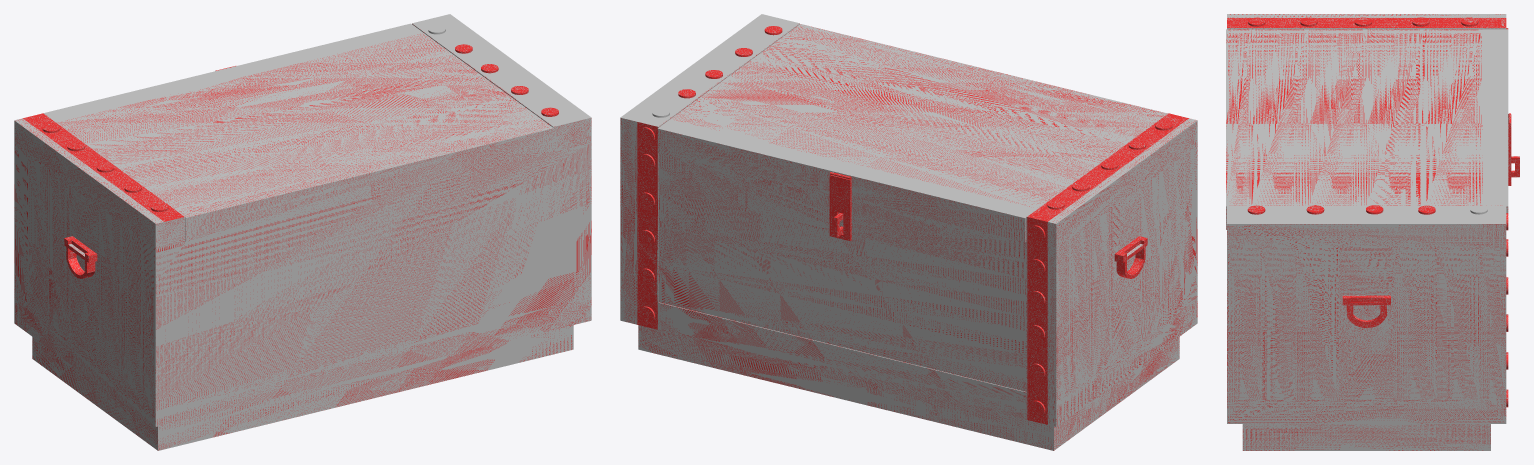
3 views of the same model, side by side, from view 1: azimuth 30°, elevation 25°; view 2: azimuth 150°, elevation 25°; view 3: azimuth 270°, elevation 25° (orthographic).
Visible parts, largest first — view 1: mesh1_mesh1-geometry; view 2: mesh1_mesh1-geometry; view 3: mesh1_mesh1-geometry.
Part boxes in pixels (<box>): mesh1_mesh1-geometry: <box>14,14,591,450</box>; mesh1_mesh1-geometry: <box>620,14,1197,450</box>; mesh1_mesh1-geometry: <box>1226,14,1519,450</box>.
Bounding box in the file's own units: 0.7948 × 0.4004 × 0.4561.
